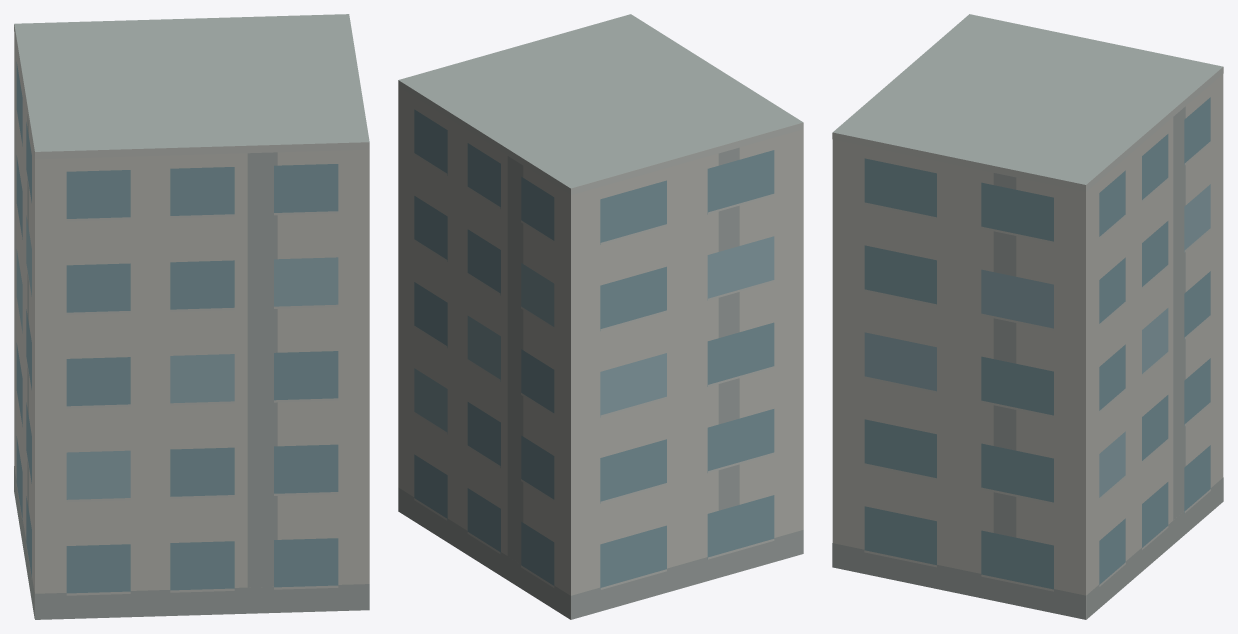
File: residential-e3b659f0-48b9-46a8-bc56-c431c20aad55.glb
3 renders of one model, left to right at view 1: azimuth 30°, elevation 25°; view 2: azimuth 150°, elevation 25°; view 3: azimuth 270°, elevation 25°, orthographic. The views are drawn at different scales.
Parts seen in each view (by area): view 1: residential-e3b659f0-48b9-46a8-bc56-c431c20aad55.tmp; view 2: residential-e3b659f0-48b9-46a8-bc56-c431c20aad55.tmp; view 3: residential-e3b659f0-48b9-46a8-bc56-c431c20aad55.tmp.
Part boxes in pixels (box(x1,y1,x2,y2)): residential-e3b659f0-48b9-46a8-bc56-c431c20aad55.tmp: box(14, 14, 369, 619); residential-e3b659f0-48b9-46a8-bc56-c431c20aad55.tmp: box(398, 14, 803, 619); residential-e3b659f0-48b9-46a8-bc56-c431c20aad55.tmp: box(832, 14, 1223, 619).
Bounding box in the file's own units: 12.87 × 15.25 × 12.43.
